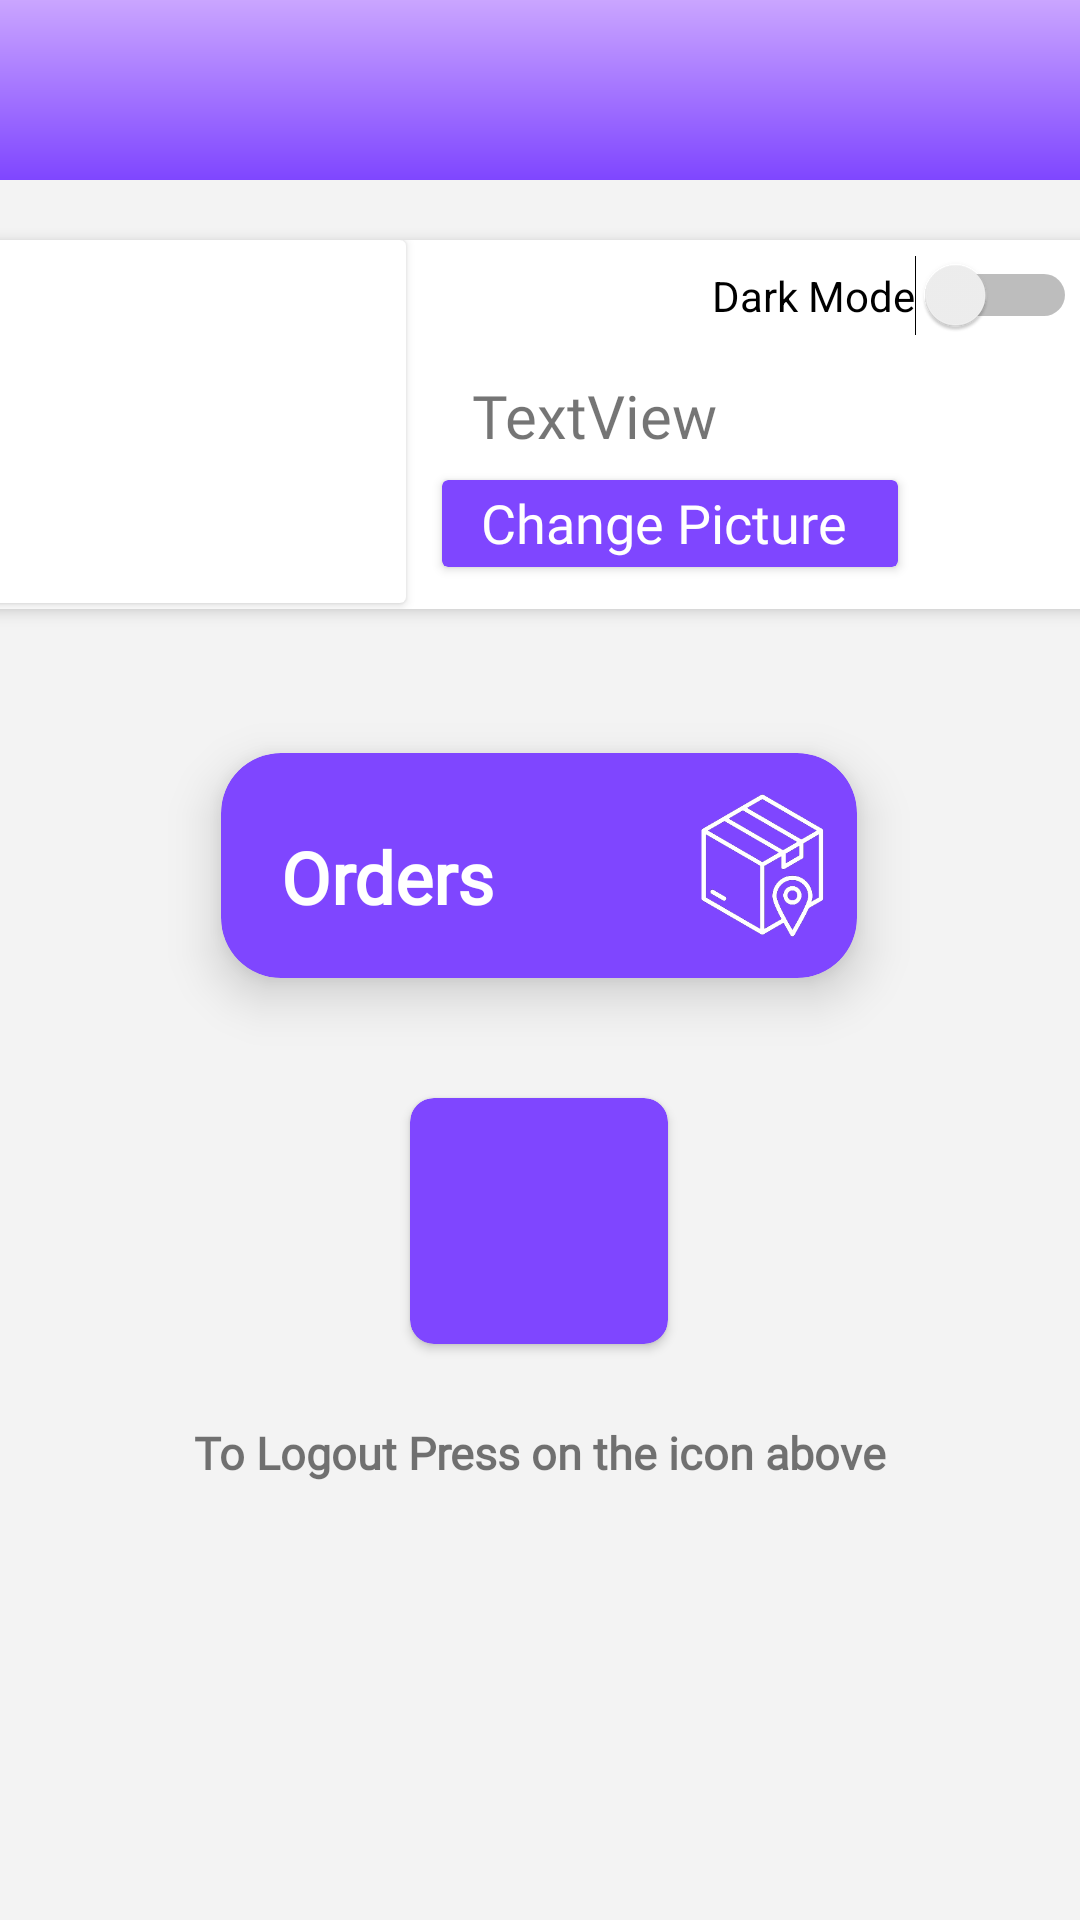

Icon click points for this 1080px×1920px phone screenshot, format (x,y):
orders: (762,865)
